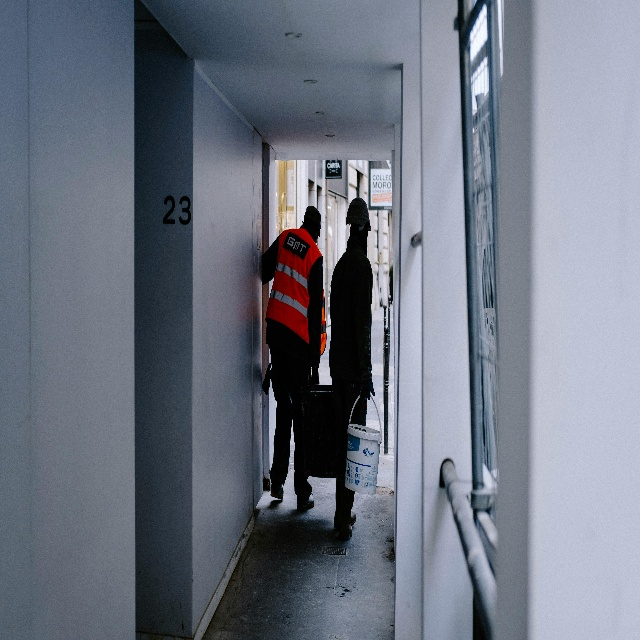Guantes: (360, 377, 376, 401), (310, 366, 319, 384)
